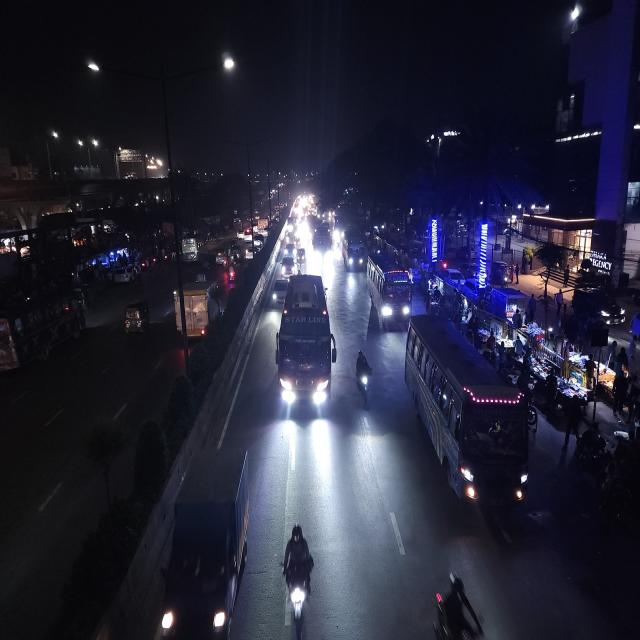bus: (402, 317, 532, 516), (275, 272, 335, 417), (0, 286, 86, 379), (364, 250, 414, 331), (341, 226, 365, 274), (311, 227, 332, 268), (180, 229, 200, 261)
car: (280, 253, 296, 277), (215, 247, 227, 266), (244, 244, 256, 262)
cng: (122, 296, 152, 340), (296, 246, 308, 271)
motorcycle: (277, 517, 317, 640), (354, 347, 372, 409), (226, 260, 237, 286)
truck: (163, 441, 254, 640), (169, 269, 221, 342), (271, 274, 287, 308)
